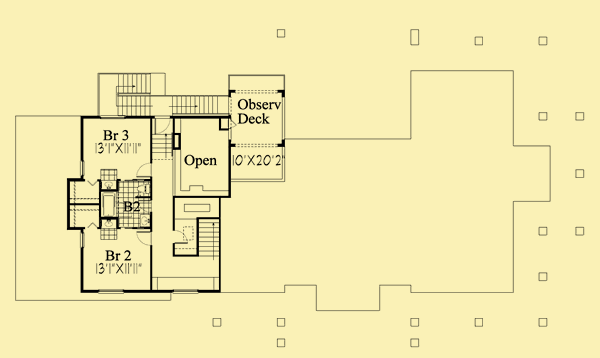door: (135, 226, 153, 246), (172, 227, 189, 246), (134, 161, 152, 178), (153, 117, 171, 134)
stairs: (97, 70, 231, 119), (198, 216, 223, 263), (151, 131, 172, 164)
windows: (170, 287, 199, 296), (97, 288, 129, 295), (78, 155, 86, 178), (78, 229, 86, 252)
